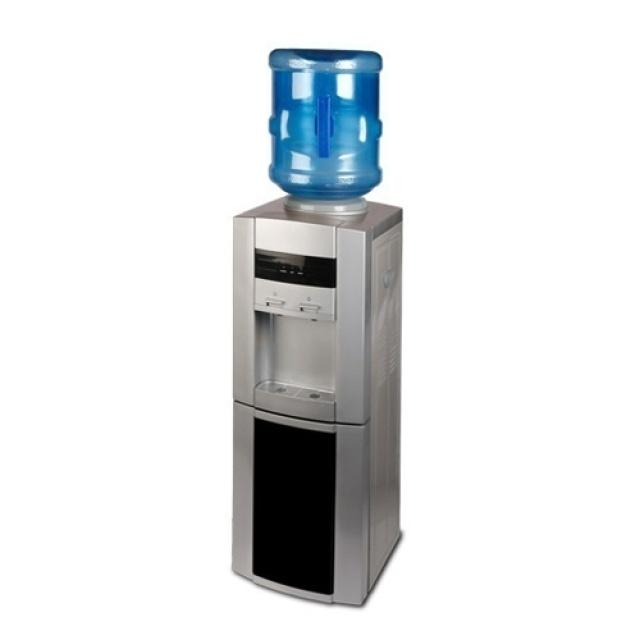Dispenser: (231, 47, 402, 607)
